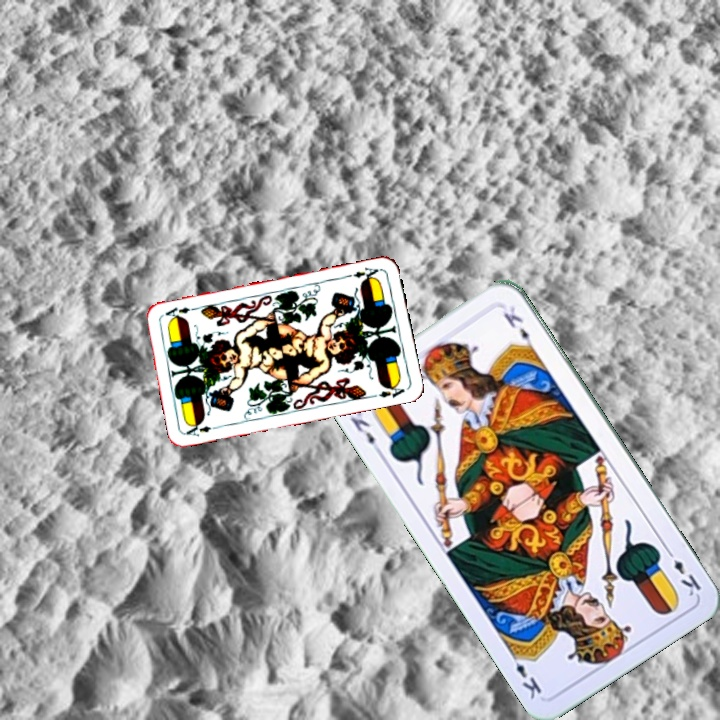EA: (343, 263, 383, 284), (182, 419, 223, 439)
EK: (662, 544, 704, 599), (345, 406, 385, 457)
